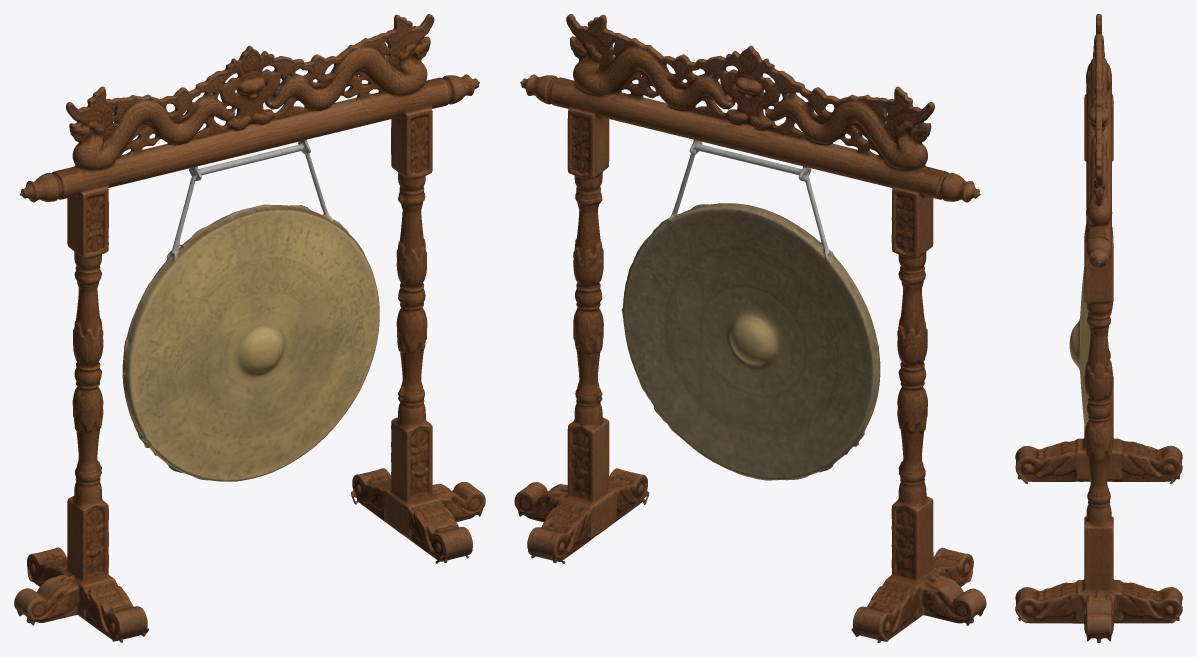
Rendered from Goong.glb.
3 renders of one model, left to right at view 1: azimuth 30°, elevation 25°; view 2: azimuth 150°, elevation 25°; view 3: azimuth 270°, elevation 25°, orthographic. The views are drawn at different scales.
Visible parts, largest first — view 1: mesh_node; view 2: mesh_node; view 3: mesh_node.
Boxes of the visible parts, left/top/right/bottom form: mesh_node: left=14, top=14, right=485, bottom=642; mesh_node: left=514, top=14, right=986, bottom=642; mesh_node: left=1015, top=14, right=1182, bottom=642.
Bounding box in the file's own units: 1.75 × 1.9 × 0.6178.
Materials: 1 (1 with a texture image).
